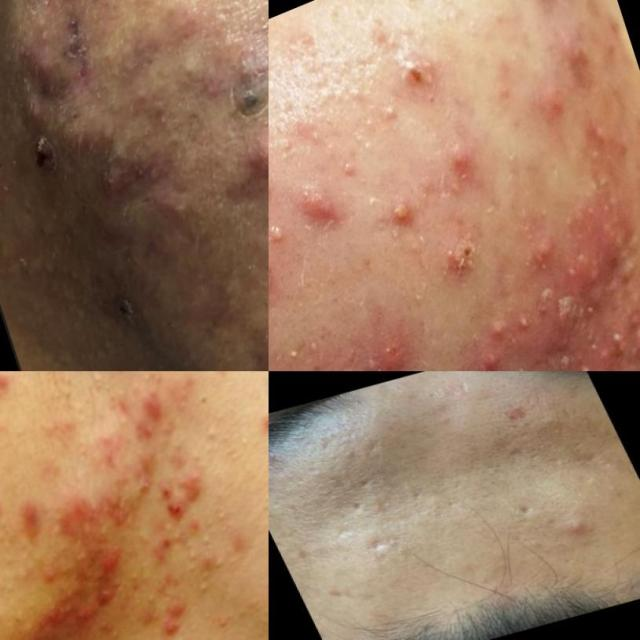acne_scars: (501, 492, 555, 536), (496, 441, 544, 484), (361, 529, 405, 567), (339, 493, 382, 519)
comedone: (362, 85, 418, 138), (285, 107, 336, 161), (22, 242, 70, 298), (321, 137, 368, 191), (274, 331, 320, 371), (422, 0, 470, 33), (193, 421, 230, 462), (125, 73, 165, 108), (0, 571, 30, 605), (180, 55, 207, 92), (191, 573, 223, 604), (234, 427, 259, 465), (124, 347, 163, 371), (82, 371, 112, 402), (130, 526, 160, 556), (191, 526, 220, 556), (210, 499, 238, 527), (135, 588, 163, 616), (457, 0, 514, 12), (50, 371, 76, 395), (329, 357, 361, 371), (259, 562, 269, 599)
cystic: (244, 120, 268, 192)
papule: (332, 272, 441, 371), (514, 47, 596, 166), (426, 122, 501, 210), (156, 592, 212, 640), (82, 540, 130, 591), (11, 495, 53, 545), (557, 510, 604, 548), (156, 483, 190, 534), (136, 380, 172, 422), (68, 598, 103, 638), (472, 339, 514, 371), (0, 371, 24, 414), (181, 469, 209, 502), (70, 631, 107, 640), (0, 491, 9, 527)
pustule: (368, 171, 437, 254), (269, 203, 306, 268), (269, 242, 292, 315)
sebo-crystan-conglo: (482, 194, 640, 362), (287, 155, 367, 262), (538, 303, 640, 371), (424, 216, 496, 304), (352, 333, 433, 371), (226, 58, 268, 130), (28, 120, 70, 184), (108, 148, 158, 198), (24, 46, 69, 96)
